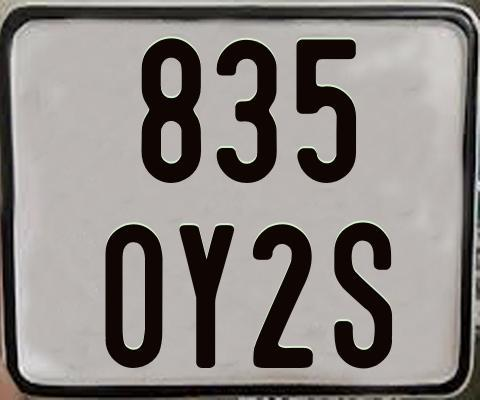0: (103, 221, 165, 366)
2: (251, 223, 311, 368)
3: (213, 37, 274, 184)
5: (294, 37, 359, 183)
8: (140, 35, 206, 185)
S: (331, 219, 391, 372)
Y: (178, 223, 237, 370)
